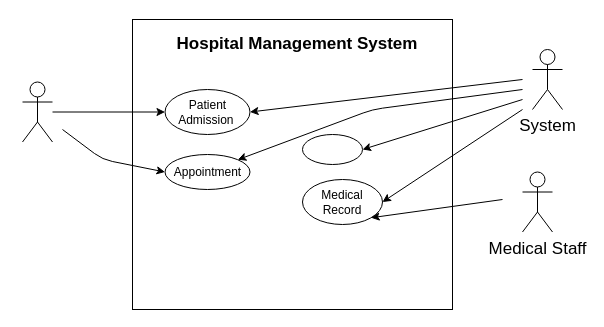
Image size: 604x327. Some labels were removed from this diagram. Each missing label, with the centre of its shape:
"Billing" belongs at [332,149].
"Front Desk Staff" belongs at [37,111].
